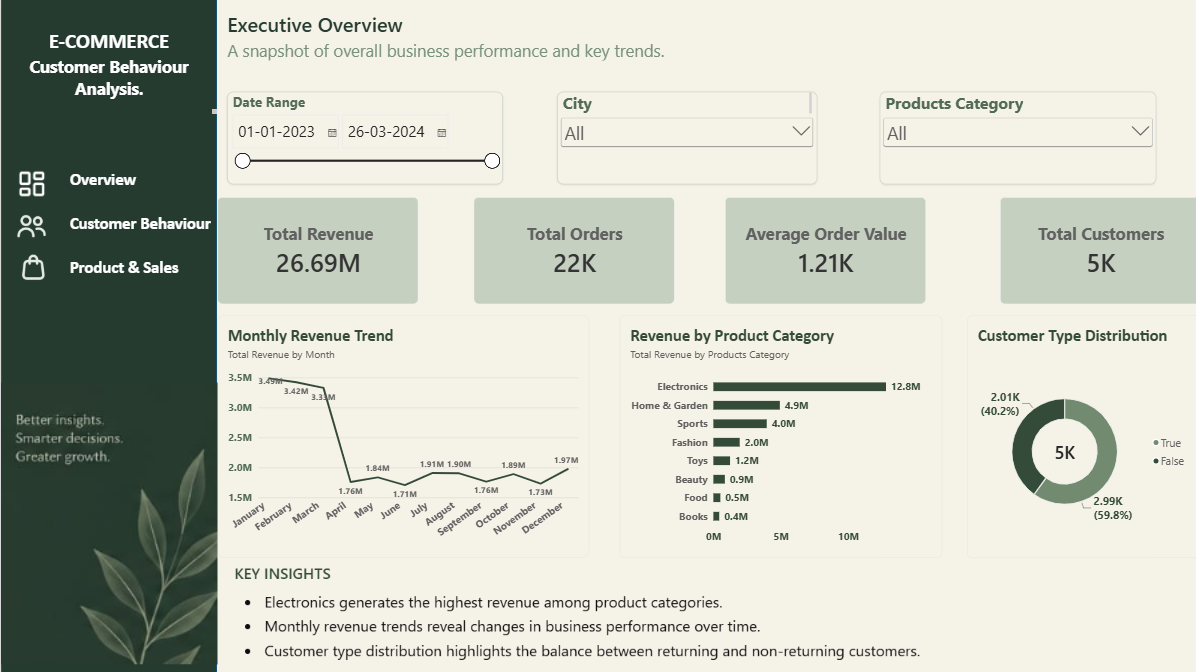

This screenshot's page, from the dashboard's own definition file:
{"tool":"powerbi","page":{"name":"Page 1","canvas":[1920,1080],"ordinal":0},"visuals":[{"type":"shape","box":[0,0,345.8,1080.6],"z":0},{"type":"textbox","title":"E-COMMERCE","box":[0,47.3,345.8,137.9],"z":1000},{"type":"textbox","title":"Overview","box":[109.1,273.8,164.7,47.3],"z":2000},{"type":"textbox","title":"Customer Behaviour","box":[109.1,343.7,253.2,39.1],"z":3000},{"type":"textbox","title":"Product & Sales","box":[109.1,413.7,228.5,43.2],"z":4000},{"type":"image","box":[24.7,273.8,49.4,47.3],"z":6000},{"type":"image","box":[18.5,343.7,63.8,43.2],"z":7000},{"type":"image","box":[14.4,403.4,74.1,53.5],"z":8000},{"type":"textbox","title":"Executive Overview","box":[362.3,20.6,716.3,129.7],"z":10000},{"type":"slicer","fields":{"Values":["Customer.City"]},"box":[890,150,415.8,148.2],"z":11000},{"type":"slicer","fields":{"Values":["Dim_Date.Date"]},"box":[362.3,150.3,440.5,148.2],"z":12000},{"type":"slicer","fields":{"Values":["Product.Products Category"]},"box":[1406,150,442.5,148.2],"z":13000},{"type":"cardVisual","fields":{"Data":["Ecommerce_Final.Total Revenue"]},"box":[346,318,322.5,172.5],"z":14000},{"type":"cardVisual","fields":{"Data":["Ecommerce_Final.Total Orders"]},"box":[756,318,322.5,172.5],"z":15000},{"type":"cardVisual","fields":{"Data":["Ecommerce_Final.Average Order Value"]},"box":[1158,318,322.5,172.5],"z":16000},{"type":"cardVisual","fields":{"Data":["Ecommerce_Final.Total Customers"]},"box":[1598,318,322.5,172.5],"z":17000},{"type":"lineChart","title":"Monthly Revenue Trend","fields":{"Category":["Dim_Date.Year Hierarchy.Year","Dim_Date.Year Hierarchy.Month"],"Y":["Ecommerce_Final.Total Revenue"]},"box":[346,508,595.4,387.3],"z":18000},{"type":"clusteredBarChart","title":"Revenue by Product Category","fields":{"Category":["Product.Products Category"],"Y":["Ecommerce_Final.Total Revenue"]},"box":[990,508,516,388],"z":19000},{"type":"donutChart","title":"Customer Type Distribution","fields":{"Category":["Customer.Is_Returning_Customer"],"Y":["CountNonNull(Customer.Customer_ID)"]},"box":[1546,508,374,388],"z":20000},{"type":"image","box":[0,602,346,478],"z":20001},{"type":"image","box":[252,896,1346,168],"z":20002}]}

Visuals, with their boxes in screenshot pixels (x1, y1, x2, y2), scaled from the page's 1920x1080 canvas onto the 1196x672 screenshot:
shape: BBox(0, 0, 215, 671)
"E-COMMERCE" textbox: BBox(0, 29, 215, 115)
"Overview" textbox: BBox(68, 170, 171, 200)
"Customer Behaviour" textbox: BBox(68, 214, 226, 238)
"Product & Sales" textbox: BBox(68, 257, 210, 284)
image: BBox(15, 170, 46, 200)
image: BBox(12, 214, 51, 241)
image: BBox(9, 251, 55, 284)
"Executive Overview" textbox: BBox(226, 13, 672, 94)
slicer - Customer.City: BBox(554, 93, 813, 186)
slicer - Dim_Date.Date: BBox(226, 94, 500, 186)
slicer - Product.Products Category: BBox(876, 93, 1151, 186)
cardVisual - Ecommerce_Final.Total Revenue: BBox(216, 198, 416, 305)
cardVisual - Ecommerce_Final.Total Orders: BBox(471, 198, 672, 305)
cardVisual - Ecommerce_Final.Average Order Value: BBox(721, 198, 922, 305)
cardVisual - Ecommerce_Final.Total Customers: BBox(995, 198, 1195, 305)
"Monthly Revenue Trend" lineChart: BBox(216, 316, 586, 557)
"Revenue by Product Category" clusteredBarChart: BBox(617, 316, 938, 558)
"Customer Type Distribution" donutChart: BBox(963, 316, 1195, 558)
image: BBox(0, 375, 216, 671)
image: BBox(157, 558, 995, 662)
